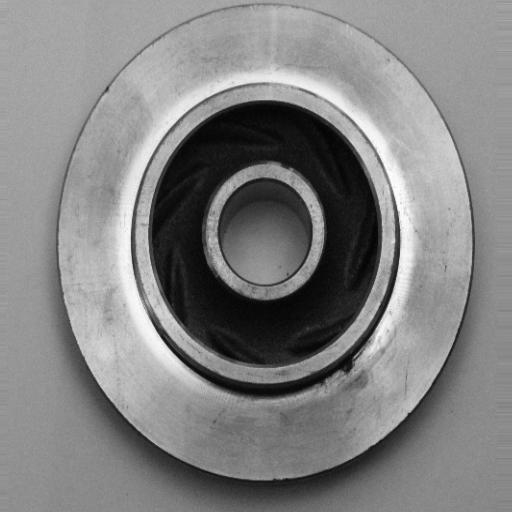crack: (332, 349, 368, 383)
unpolished_casting: (53, 1, 478, 488)
